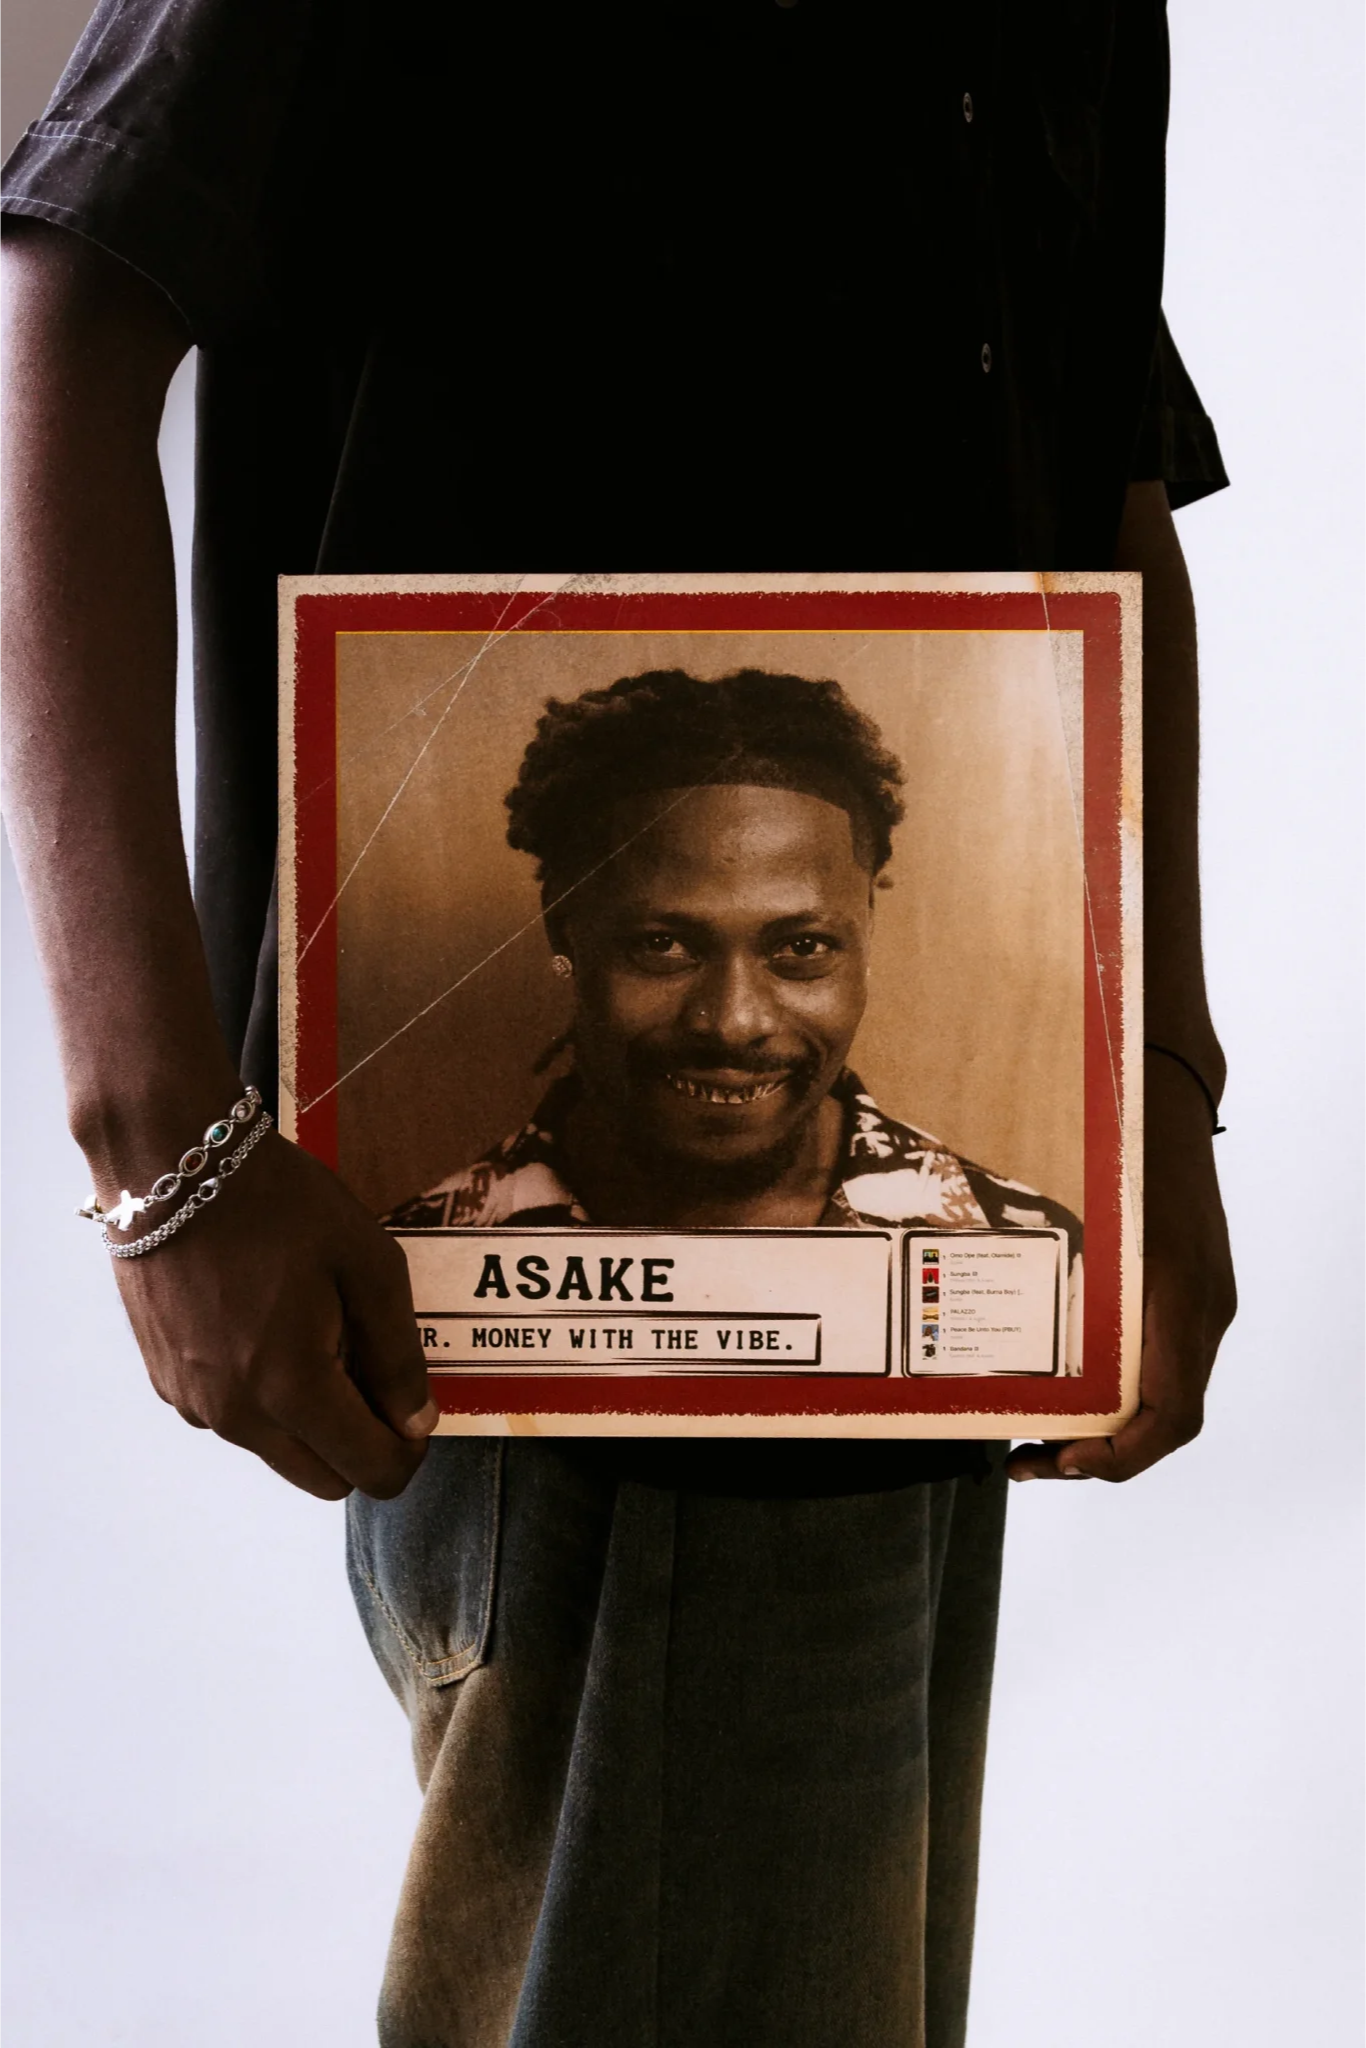asake_mr. money with the vibe: (261, 568, 1156, 1449)
